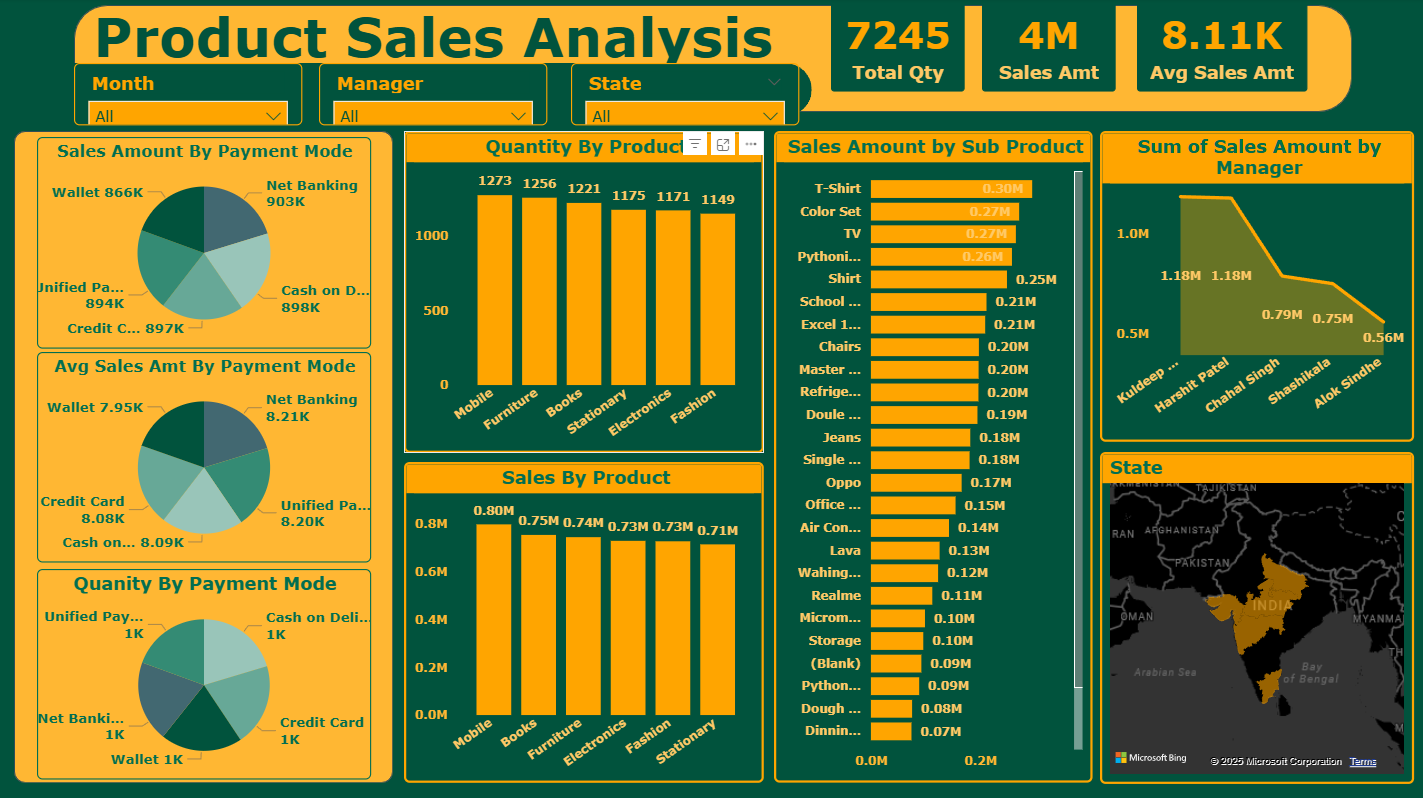

This screenshot's page, from the dashboard's own definition file:
{"tool":"powerbi","page":{"name":"Page 1","canvas":[1280,720],"ordinal":0},"visuals":[{"type":"shape","box":[66.4,6.3,1147.3,96.1],"z":0},{"type":"textbox","box":[79,0,650,87.1],"z":1000},{"type":"shape","box":[12.6,119.4,340.2,585.3],"z":2000},{"type":"pieChart","title":"Sales Amount By Payment Mode","fields":{"Category":["Dim_Payment.Description"],"Y":["Fact_Sales.Sales Amount"]},"box":[33.2,124.8,299.9,190.3],"z":3000},{"type":"pieChart","title":"Avg Sales Amt By Payment Mode","fields":{"Category":["Dim_Payment.Description"],"Y":["Fact_Sales.Sales Amount"]},"box":[33.2,317.8,299.9,189.4],"z":4000},{"type":"pieChart","title":"Quanity By Payment Mode","fields":{"Category":["Dim_Payment.Description"],"Y":["Fact_Sales.Order Qty"]},"box":[33.2,512.6,299.9,189.4],"z":5000},{"type":"clusteredColumnChart","title":"Quantity By Product","fields":{"Category":["Dim_Product.Product Name"],"Y":["Fact_Sales.Order Qty"]},"box":[362.7,119.4,323.2,289.1],"z":6000},{"type":"clusteredColumnChart","title":"Sales By Product","fields":{"Category":["Dim_Product.Product Name"],"Y":["Fact_Sales.Sales Amount"]},"box":[362.7,416.6,323.2,288.2],"z":7000},{"type":"clusteredBarChart","title":"Sales Amount by Sub Product","fields":{"Category":["Dim_SubProduct.Sub Product Name"],"Y":["Fact_Sales.Sales Amount"]},"box":[694.9,119.4,286.4,585.3],"z":8000},{"type":"filledMap","fields":{"Category":["Dim_State.State"]},"box":[987.5,407.6,281.9,298.1],"z":9000},{"type":"stackedAreaChart","fields":{"Category":["Fact_Sales.Manager"],"Y":["Fact_Sales.Sales Amount"]},"box":[987.5,119.4,281.9,279.2],"z":10000},{"type":"card","fields":{"Values":["Fact_Sales.Order Qty"]},"box":[746,0,120.3,84.4],"z":11000},{"type":"card","fields":{"Values":["Fact_Sales.Sales Amount"]},"box":[881.6,0,120.3,84.4],"z":12000},{"type":"card","fields":{"Values":["Fact_Sales.Sales Amount"]},"box":[1020.7,0,152.6,84.4],"z":13000},{"type":"shape","box":[12.6,58.4,716.4,47.6],"z":14000},{"type":"slicer","fields":{"Values":["Fact_Sales.Month"]},"box":[66.4,58.4,204.7,55.7],"z":15000},{"type":"slicer","fields":{"Values":["Dim_State.State"]},"box":[512.6,58.4,204.7,55.7],"z":16000},{"type":"slicer","fields":{"Values":["Fact_Sales.Manager"]},"box":[286.4,58.4,204.7,55.7],"z":17000}]}

Visuals, with their boxes in screenshot pixels (x1, y1, x2, y2), scaled from the page's 1280x720 canvas onto the 1423x798 screenshot:
shape: 74,7,1349,113
textbox: 88,0,810,97
shape: 14,132,392,781
"Sales Amount By Payment Mode" pieChart: 37,138,370,349
"Avg Sales Amt By Payment Mode" pieChart: 37,352,370,562
"Quanity By Payment Mode" pieChart: 37,568,370,778
"Quantity By Product" clusteredColumnChart: 403,132,763,453
"Sales By Product" clusteredColumnChart: 403,462,763,781
"Sales Amount by Sub Product" clusteredBarChart: 773,132,1091,781
filledMap - Dim_State.State: 1098,452,1411,782
stackedAreaChart - Fact_Sales.Manager x Fact_Sales.Sales Amount: 1098,132,1411,442
card - Fact_Sales.Order Qty: 829,0,963,94
card - Fact_Sales.Sales Amount: 980,0,1114,94
card - Fact_Sales.Sales Amount: 1135,0,1304,94
shape: 14,65,810,117
slicer - Fact_Sales.Month: 74,65,301,126
slicer - Dim_State.State: 570,65,797,126
slicer - Fact_Sales.Manager: 318,65,546,126
